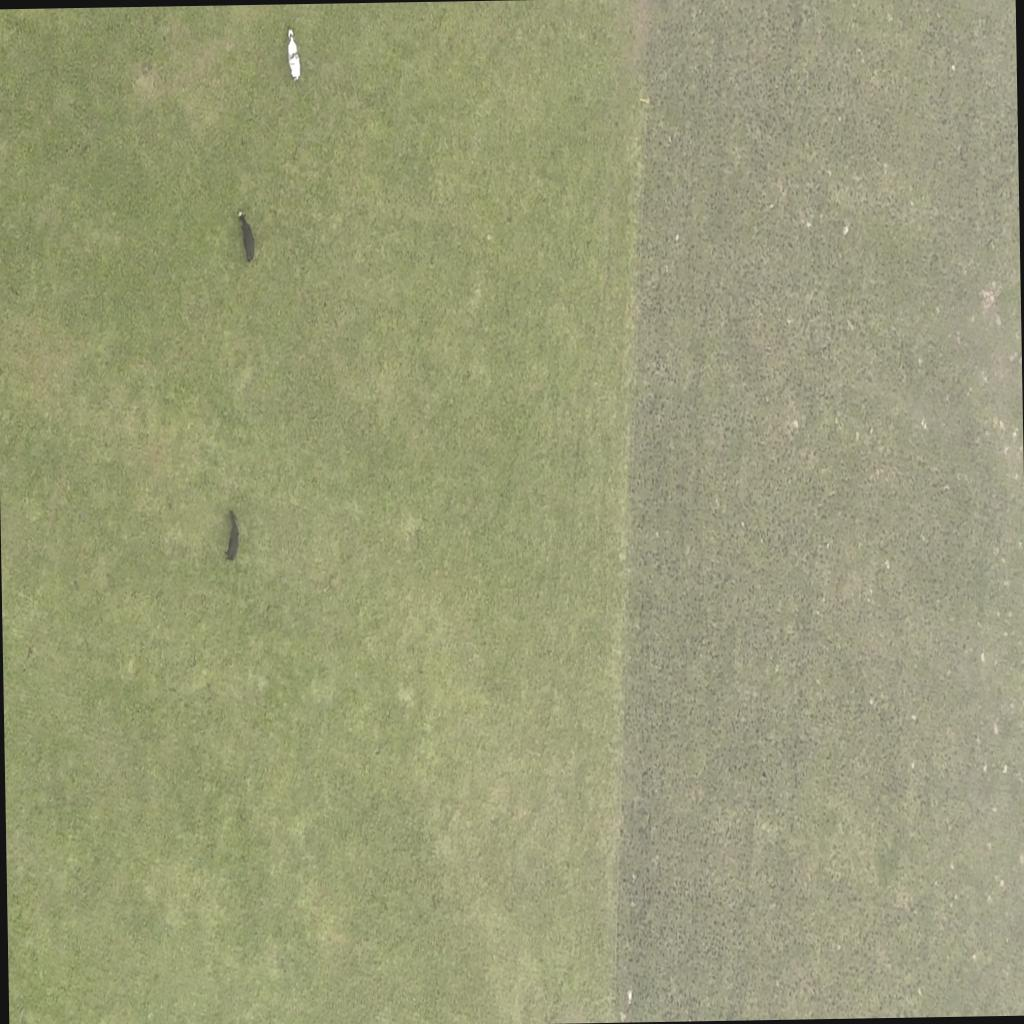cow: (284, 25, 302, 84), (222, 506, 240, 564), (237, 210, 255, 264)
